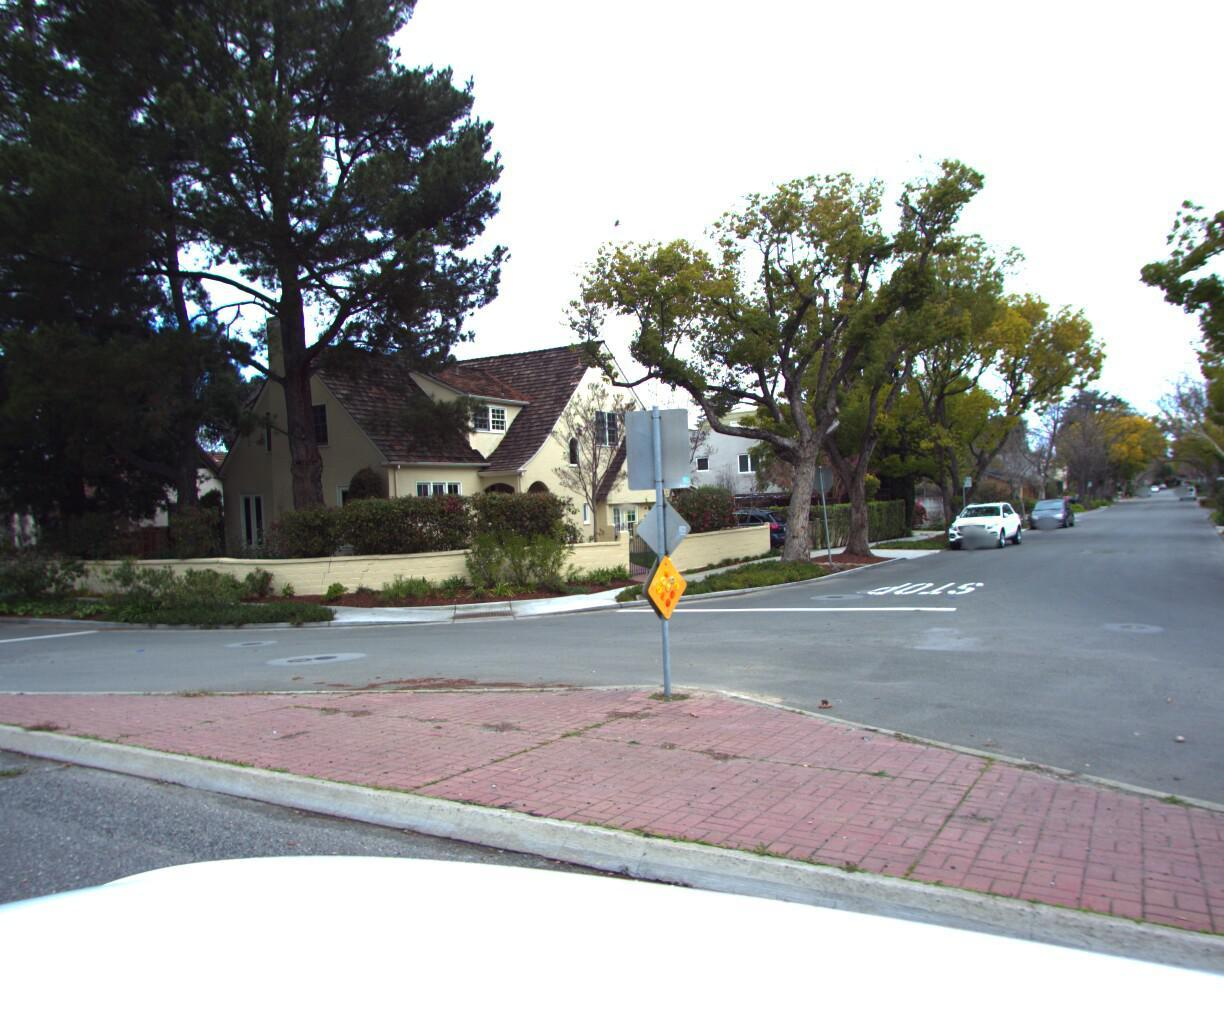car: (667, 500, 801, 551), (938, 494, 1024, 546), (1027, 493, 1077, 525)
